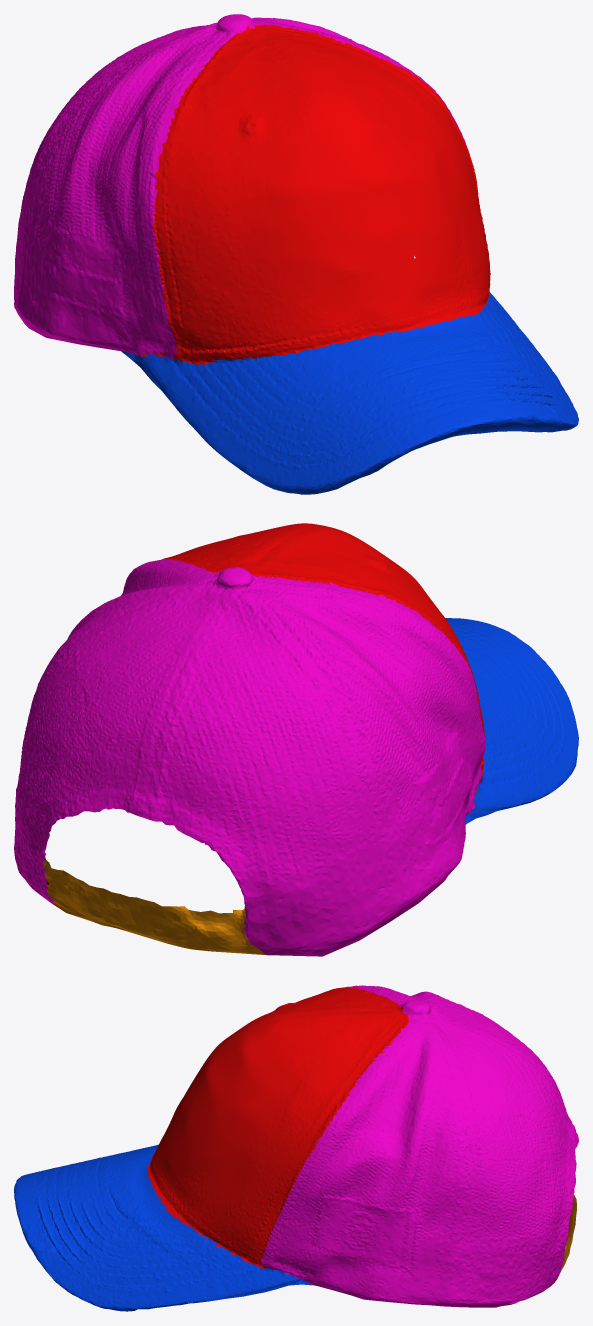
The model's file is TRUCKER_FINALVERSION.glb.
3 views of the same model, one above another, from view 1: azimuth 30°, elevation 25°; view 2: azimuth 150°, elevation 25°; view 3: azimuth 270°, elevation 25° (orthographic). The views are drawn at different scales.
Visible parts, largest first — view 1: Mesh_0; view 2: Mesh_0; view 3: Mesh_0.
Boxes of the visible parts, x1,y1,x2,y2 form: Mesh_0: [14, 14, 578, 494]; Mesh_0: [14, 523, 578, 956]; Mesh_0: [14, 985, 578, 1311].
Bounding box in the file's own units: 0.9168 × 0.6571 × 1.35.
